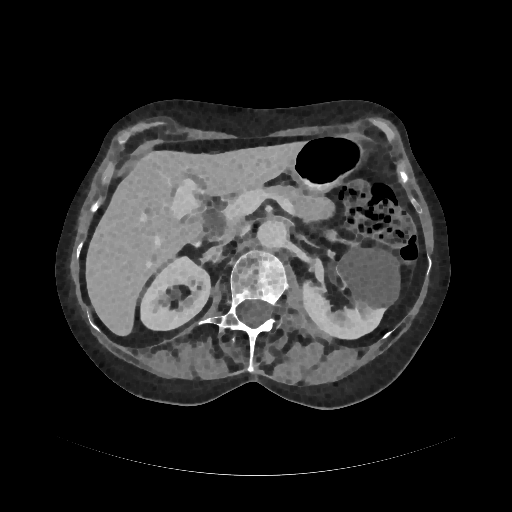Lesion: (336, 242, 403, 310)
